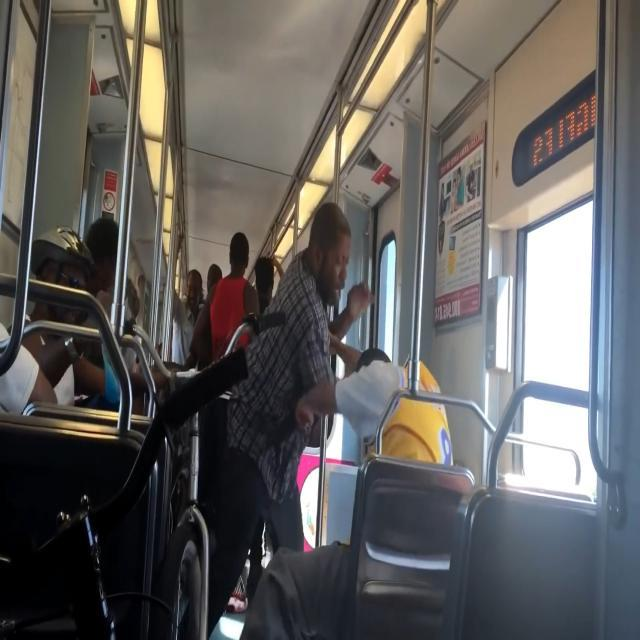non-violence: (3, 228, 112, 407), (186, 230, 259, 372), (171, 266, 205, 362), (88, 220, 117, 296), (258, 254, 274, 312), (206, 263, 221, 293)
violence: (221, 200, 451, 560)
